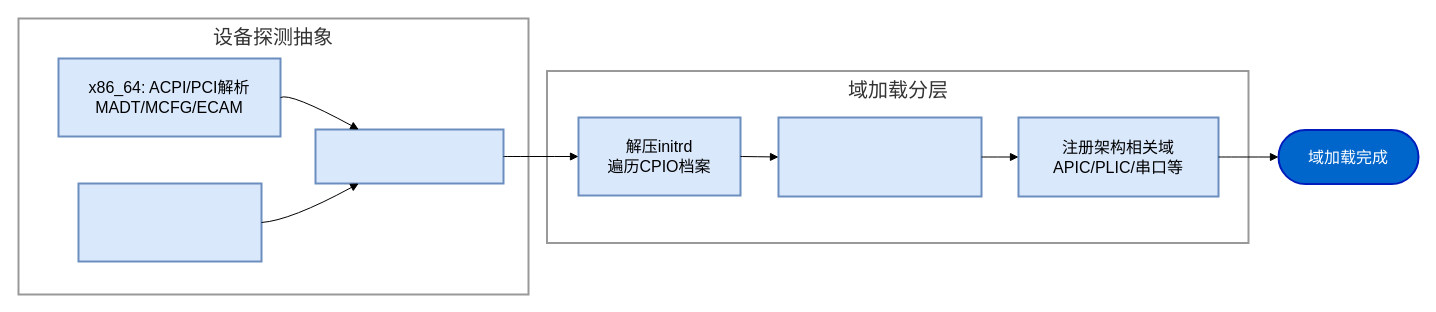
The diagram is 1436 pixels wide and 312 high, and some of its shapes have lost their labels. Here are the shapes that lost their labels. From the top down, the centre of each, then its label:
At [409,156]: "统一设备信息列表".
At [879,156]: "注册架构无关域 文件系统/网络栈等".
At [169,222]: "RISC-V: FDT解析 设备树节点".
